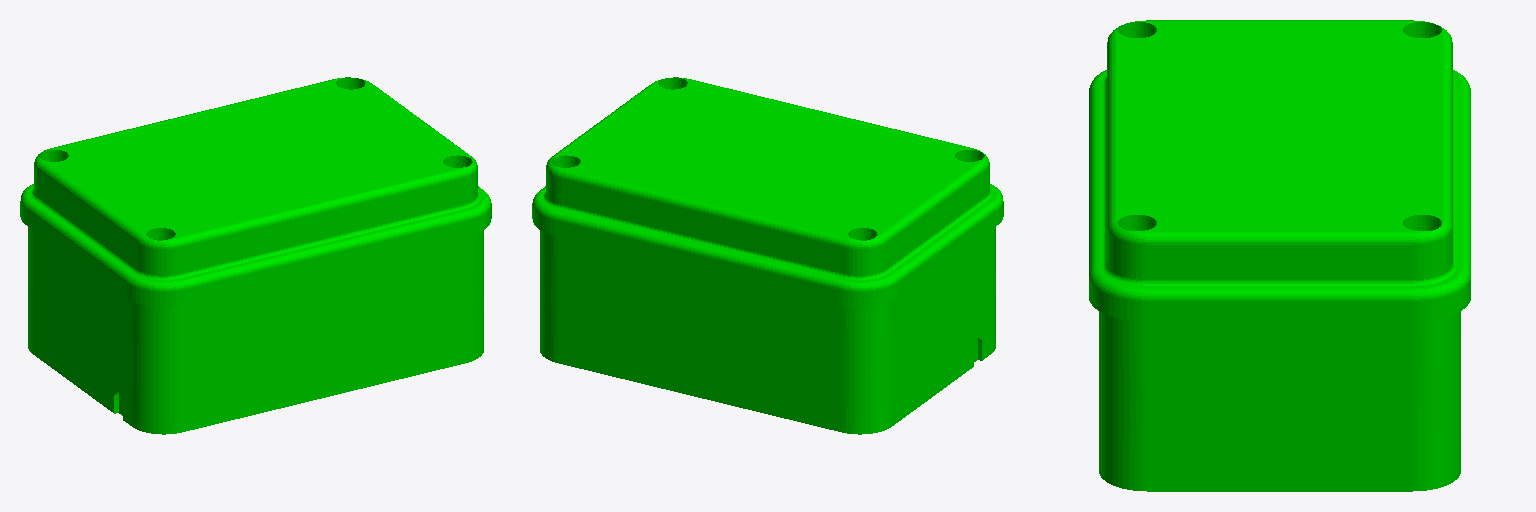
URDF robot description (obj_000029):
<?xml version="1.0" ?>
<robot name="obj_000029">
   <link name="base_link">
      <visual>
         <geometry>
            <mesh filename="package://agimus_demo_05_pick_and_place/urdf/tless/obj_29.obj" scale="0.001 0.001 0.001"/>
         </geometry>
         <material name="mat_part0">
            <color rgba="0.0 0.9 0.0 1.0"/>
         </material>
      </visual>
      <collision>
         <geometry>
            <mesh filename="package://agimus_demo_05_pick_and_place/urdf/tless/obj_29.obj" scale="0.001 0.001 0.001"/>
         </geometry>
      </collision>
      <inertial>
         <origin rpy="0 0 0" xyz="0.0 0.0 0.0"/>
         <mass value="0.1"/>
         <inertia ixx="1" ixy="0" ixz="0" iyy="1" iyz="0" izz="1"/>
      </inertial>
   </link>
</robot>

--- What the picture shows (computed from the rendered views, not written in the file) ---
Views: 3 orthographic renders of the robot side by side, from view 1: azimuth 30°, elevation 25°; view 2: azimuth 150°, elevation 25°; view 3: azimuth 270°, elevation 25°.
Robot: obj_000029 — 1 links, 0 joints (none); root link base_link; default pose: all joints at 0.
Visible links, largest first — view 1: base_link; view 2: base_link; view 3: base_link.
Link boxes in pixels (bbox=[...]): base_link: bbox=[20, 77, 491, 434]; base_link: bbox=[532, 77, 1003, 434]; base_link: bbox=[1089, 20, 1470, 491].
Size in the robot's own frame: 0.113 by 0.078 by 0.0568 metres.
Meshes: 1 distinct files referenced, 1 mesh visuals loaded (1 OBJ).
